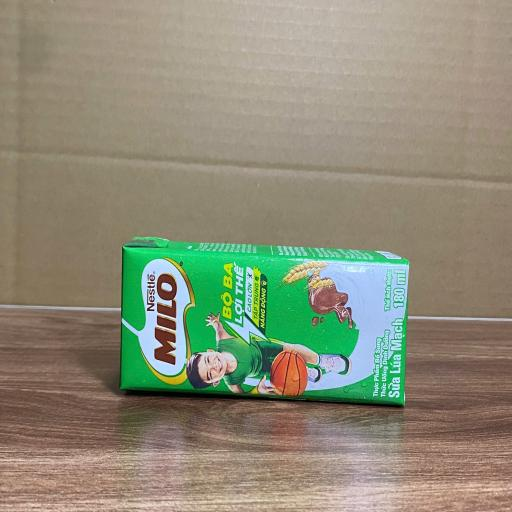milo: (120, 245, 408, 400)
